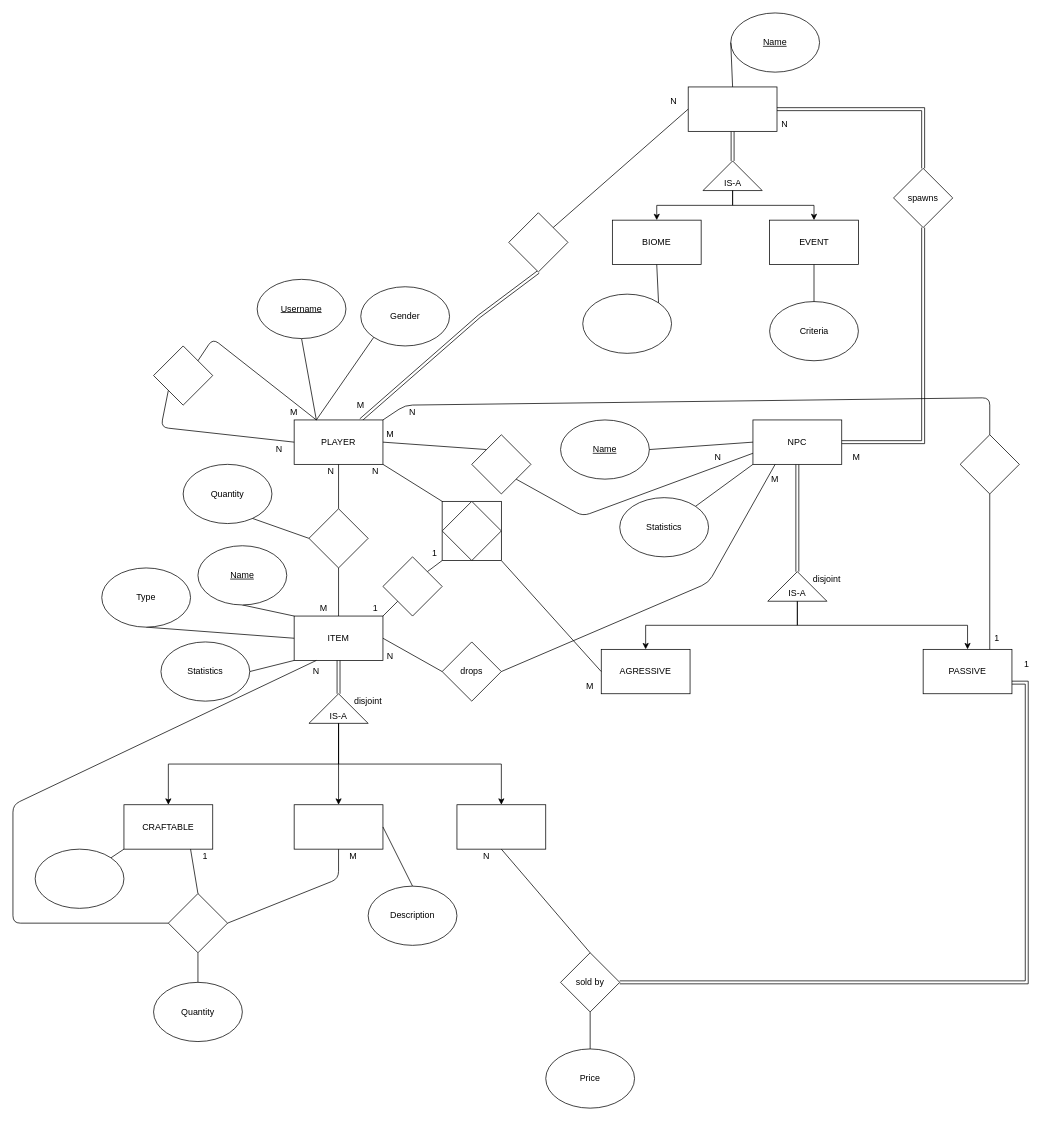
The diagram is 1055 pixels wide and 1121 high, and some of its shapes have lost their labels. Each missing label, with the centre of its shape:
"Background" goes at point (627, 323).
"CRAFTING_STATION" goes at point (338, 826).
"ENVIRONMENT" goes at point (732, 108).
"force_spawn" goes at point (471, 531).
"kills" goes at point (501, 464).
"navigates" goes at point (538, 242).
"NON_CRAFTABLE" goes at point (501, 826).
"pvp" goes at point (183, 375).
"recipe" goes at point (198, 923).
"requires" goes at point (412, 586).
"stores" goes at point (338, 538).
"talks" goes at point (989, 464).
